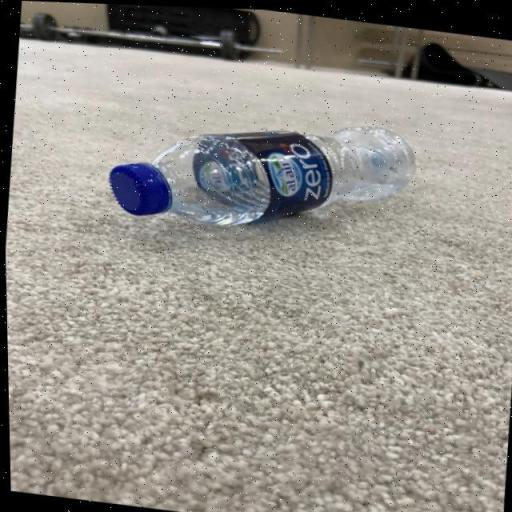plastic: (100, 90, 423, 252)
